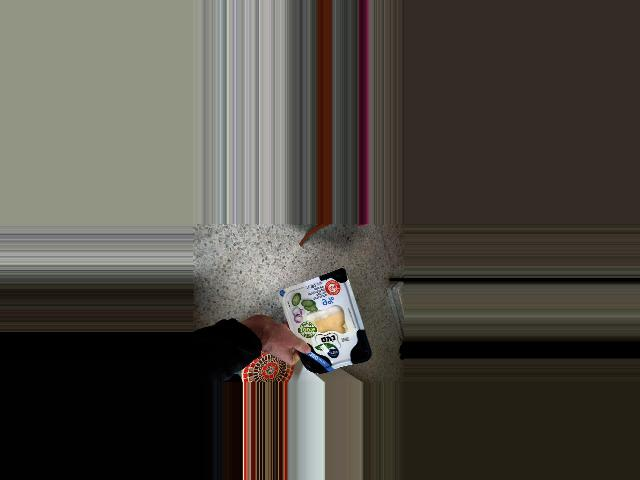cheese: (281, 268, 372, 374)
